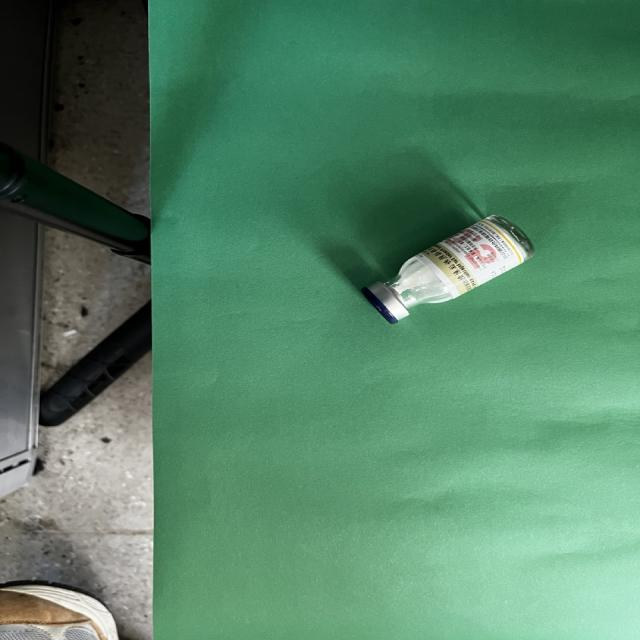Vials: (362, 213, 535, 324)
